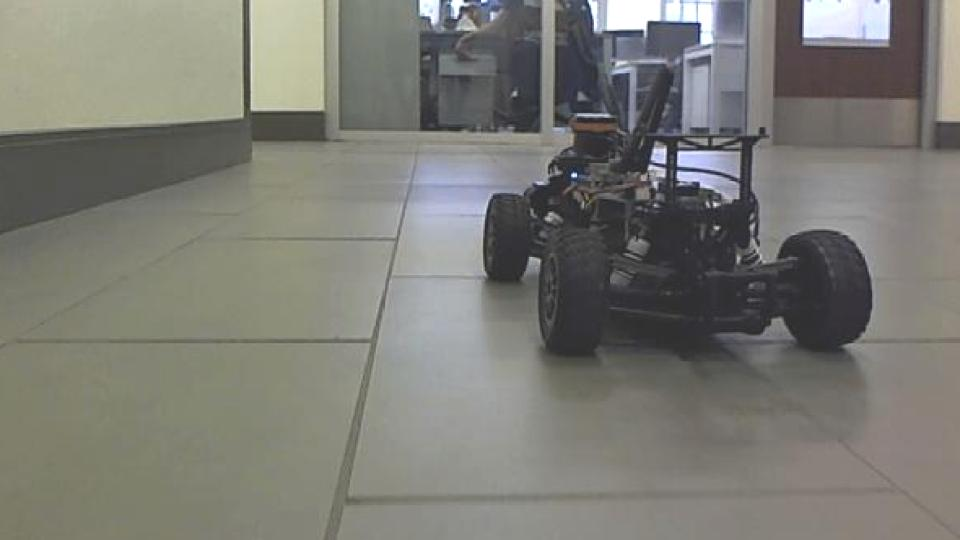car: (477, 59, 875, 360)
